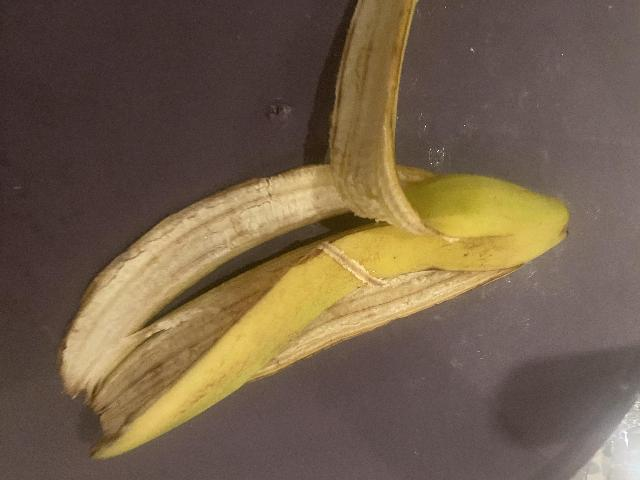Organik: (62, 176, 571, 460), (319, 0, 422, 227)
